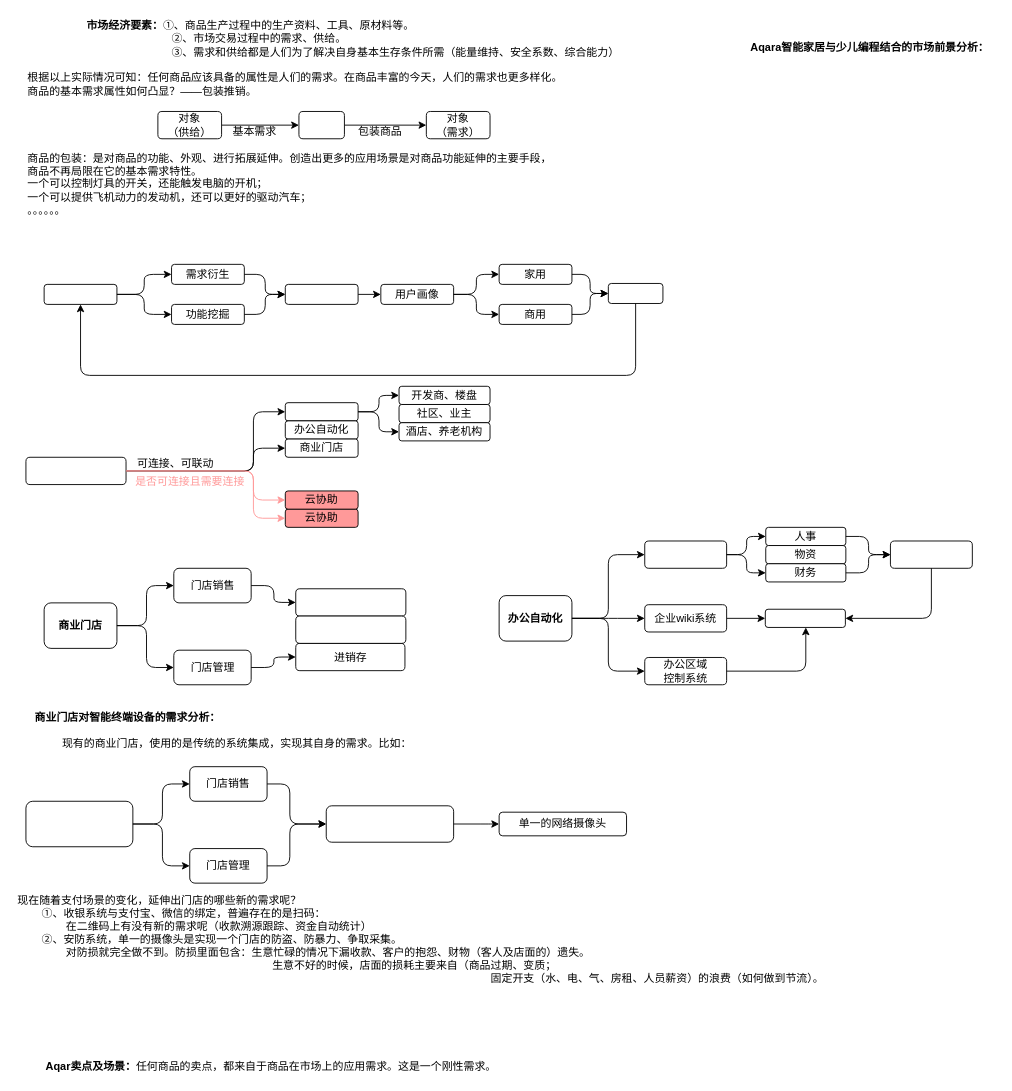
Image size: 1012x1091. Some labels were removed from this diagram. Each missing label, with the centre of its shape:
"Aqara产品定位" belongs at [75,470].
"OA系统" belongs at [685,554].
"产品包装" belongs at [80,293].
"商业门店 （传统的系统集成）" belongs at [79,823].
"商品" belongs at [321,125].
"应用场景" belongs at [321,293].
"收银系统" belongs at [350,602].
"收银系统+进销存系统" belongs at [389,823].
"数据" belongs at [804,617].
"生活家居" belongs at [321,411].
"职能节点联动" belongs at [350,629].
"连接接口" belongs at [931,554].
"销售" belongs at [635,293].
